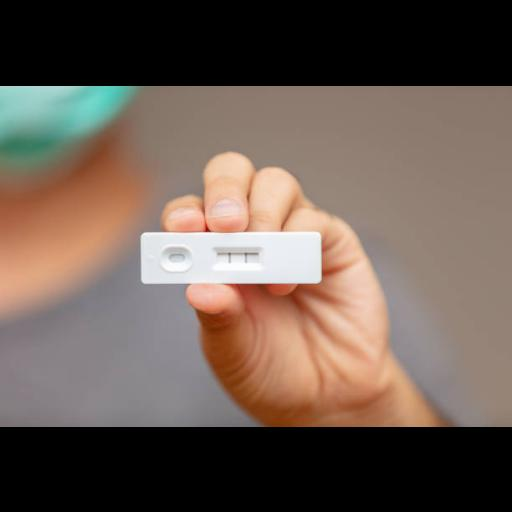Pos: (140, 230, 320, 282)
